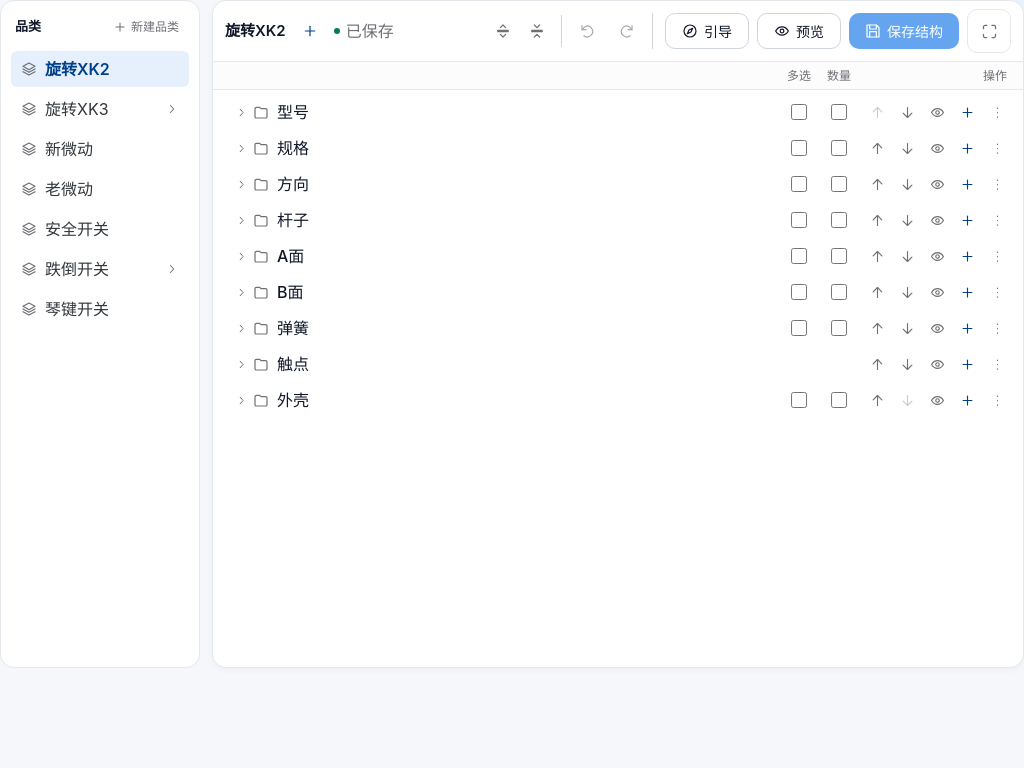
Test: 撤销/重做：新增分组可撤销找回，重做恢复
Click the button named "添加内容" at (310, 31), box left=294, top=15, right=326, bottom=47
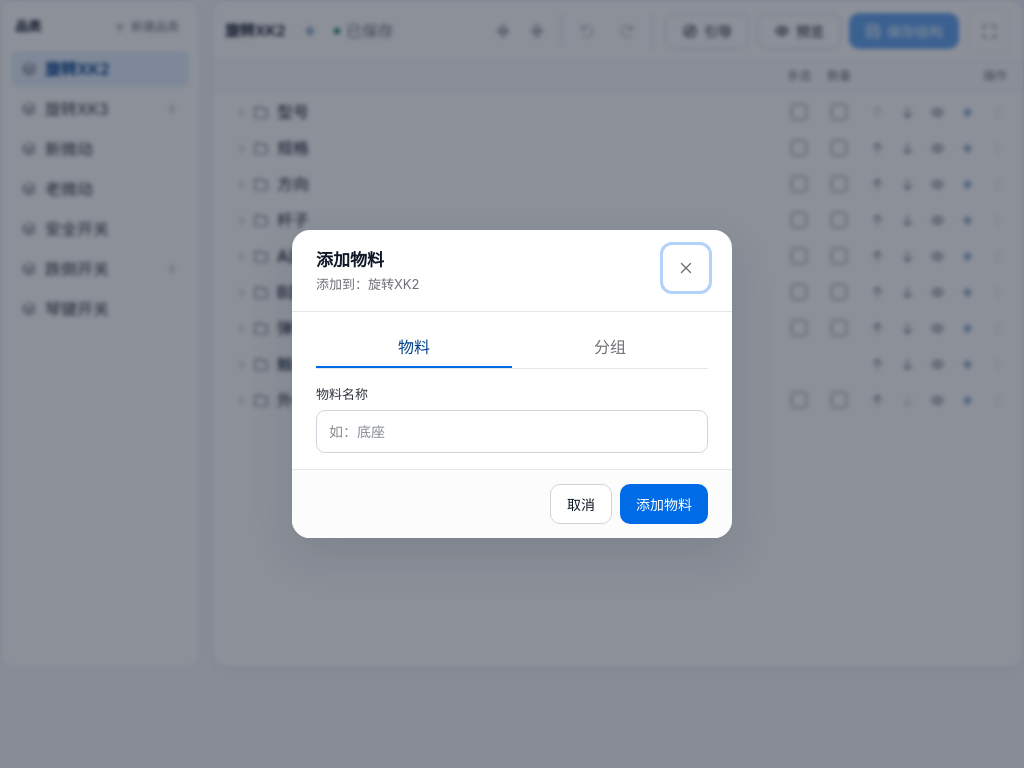
Click the radio button labelled "分组" at (610, 347), box left=594, top=337, right=626, bottom=357
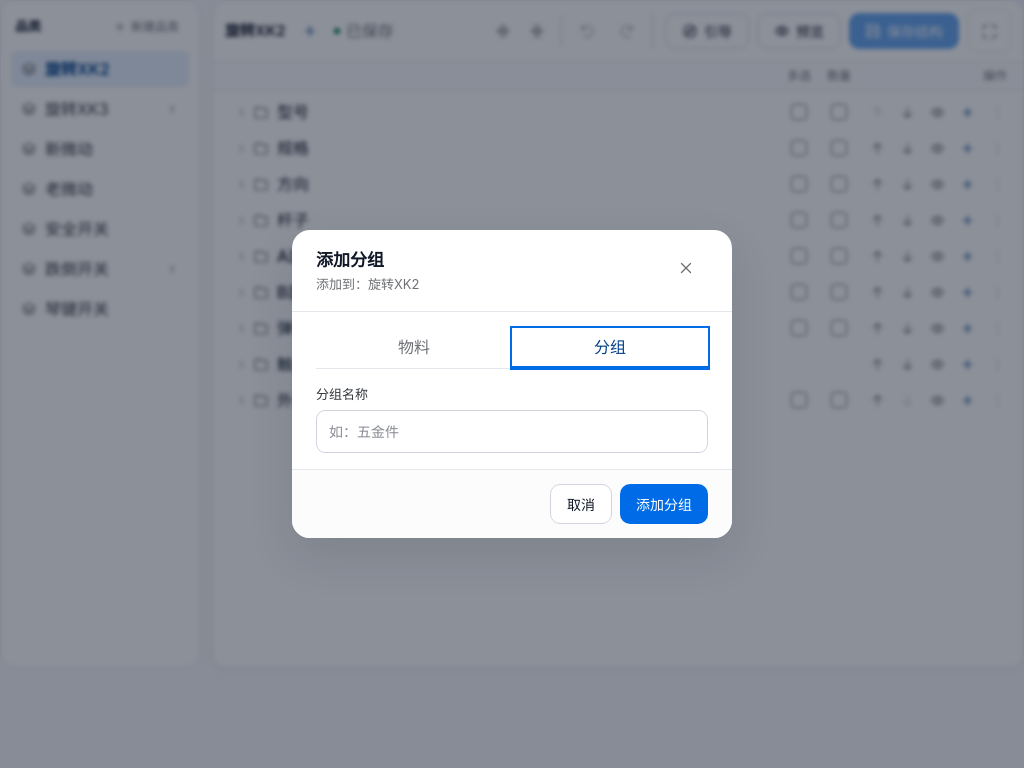
Type "弹静片" into the field with placeholder "如：五金件" at (512, 432), box left=316, top=410, right=708, bottom=453
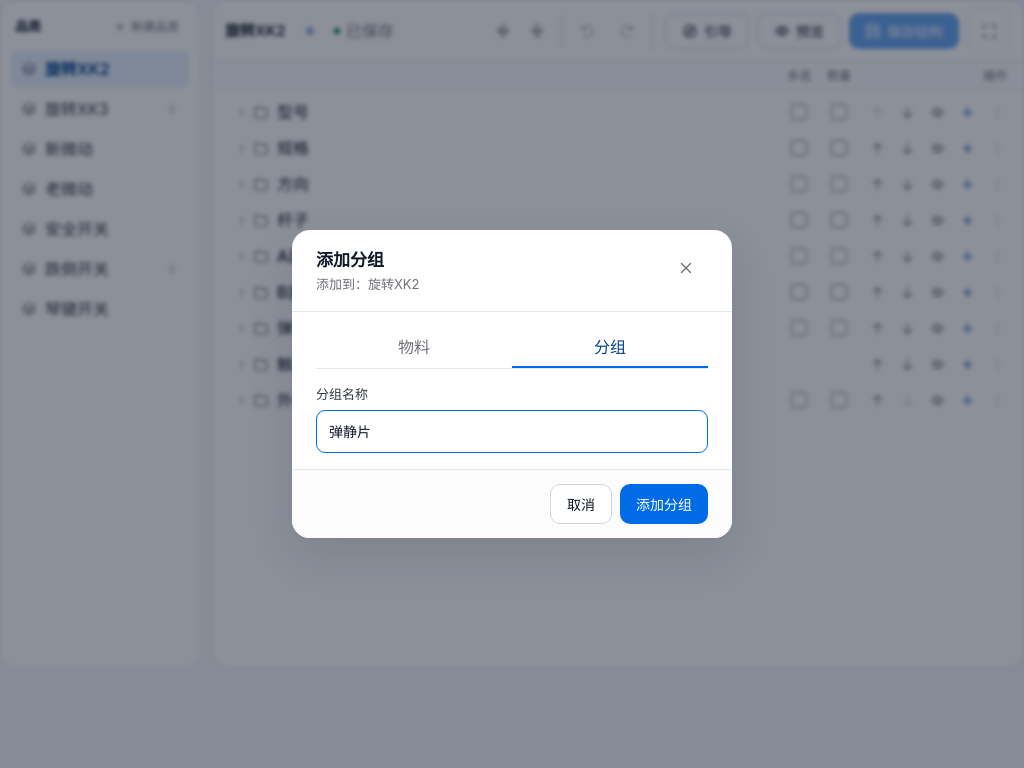
Click the button "添加分组" at (664, 504), box left=620, top=484, right=708, bottom=524
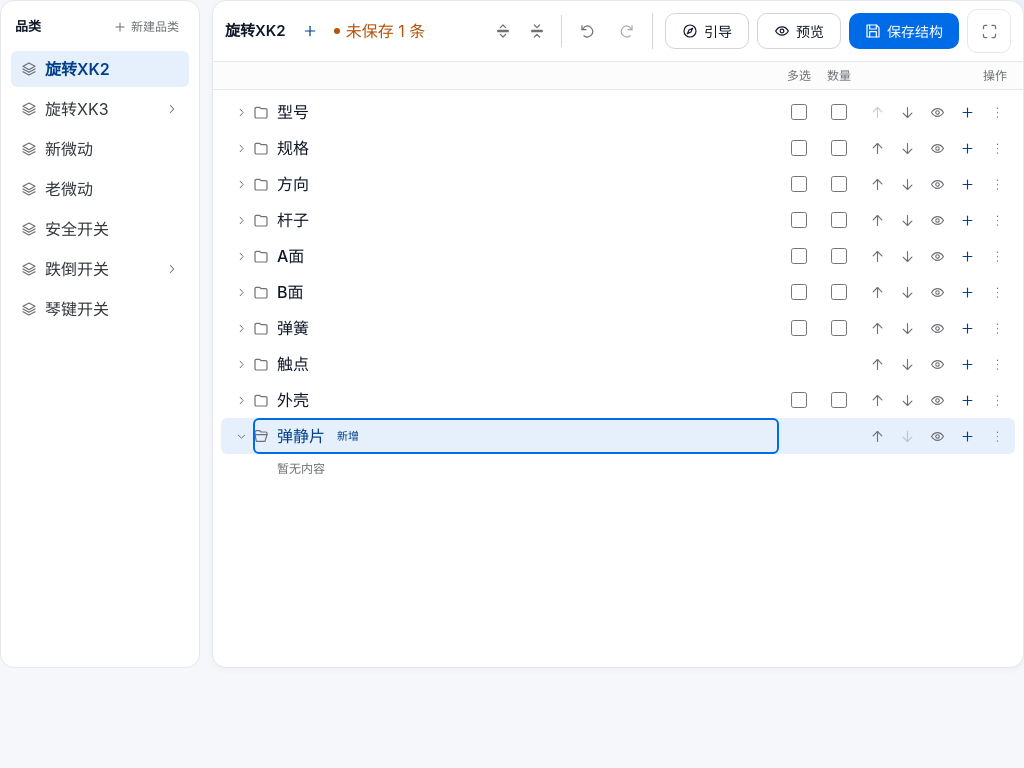
Check: the text "弹静片" is shown, box left=277, top=424, right=325, bottom=448
Click the button named "撤销" at (588, 31), box left=570, top=13, right=606, bottom=49
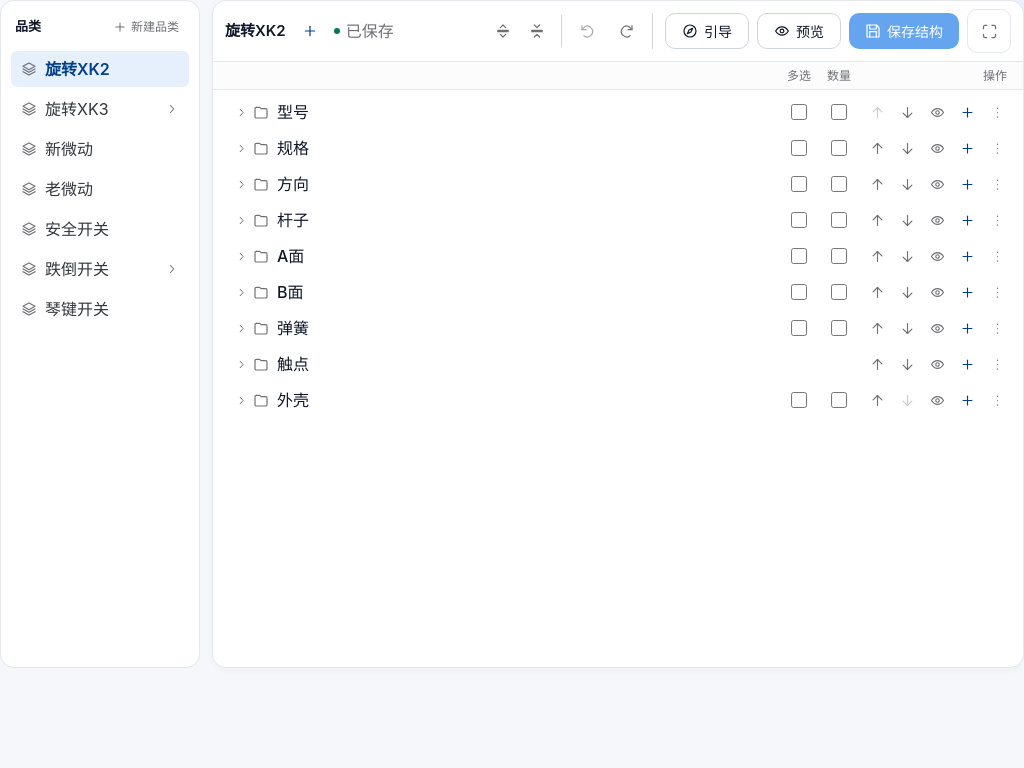
Check: the button "弹静片" is gone
Check: the text "已保存" is shown, box left=334, top=19, right=394, bottom=43
Click the button named "重做" at (626, 31), box left=608, top=13, right=644, bottom=49
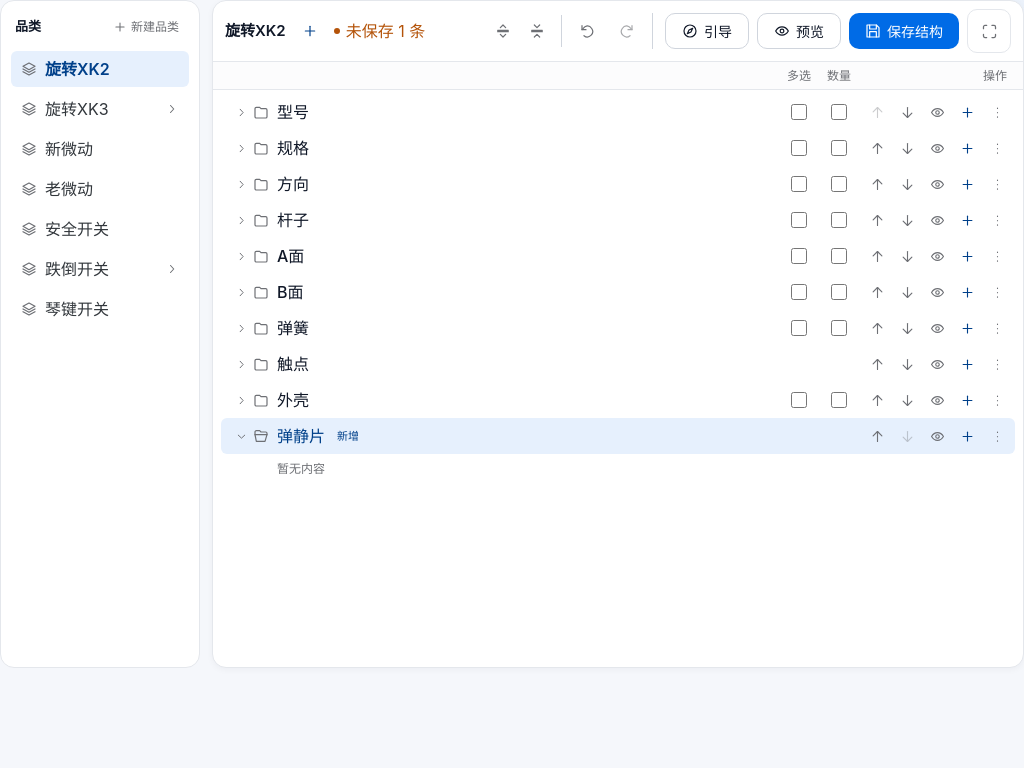
Check: the text "弹静片" is shown, box left=277, top=424, right=325, bottom=448
